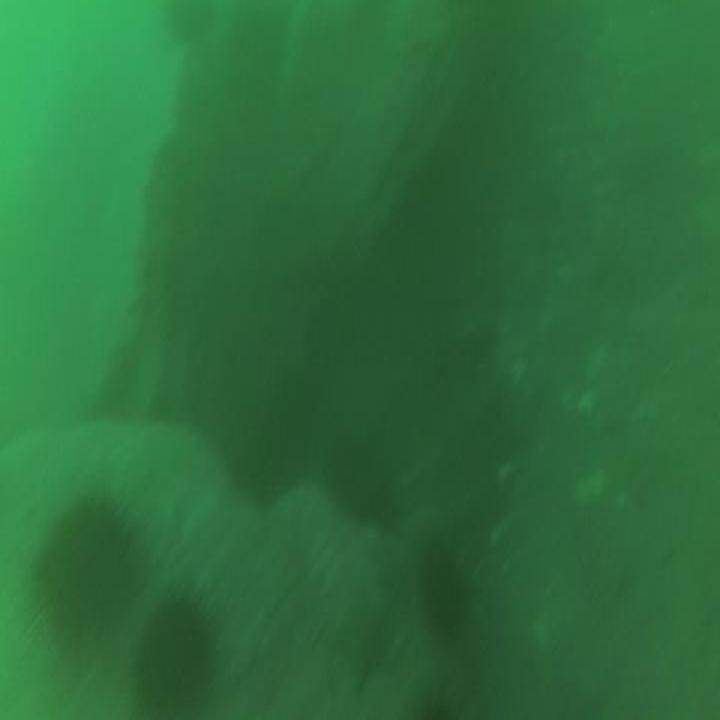echinus: (41, 505, 137, 649), (138, 599, 214, 720), (328, 427, 394, 528), (415, 540, 459, 634)
